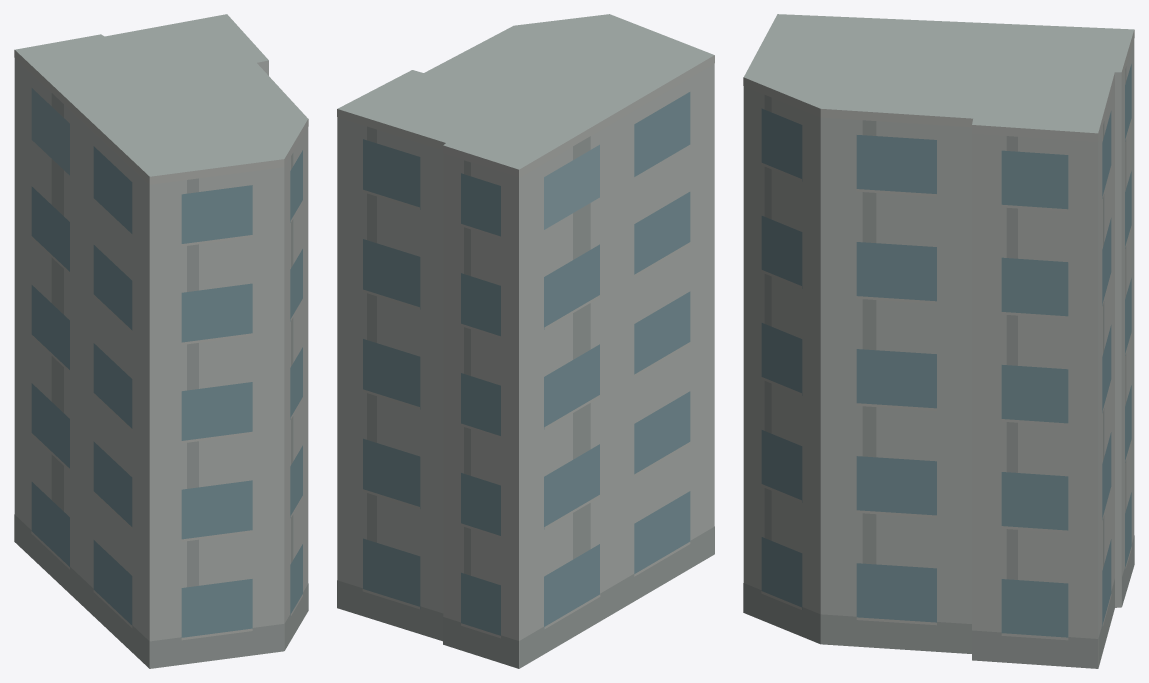
Rendered from survey-upis-32732214.glb.
3 views of the same model, side by side, from view 1: azimuth 30°, elevation 25°; view 2: azimuth 150°, elevation 25°; view 3: azimuth 270°, elevation 25° (orthographic). The views are drawn at different scales.
Parts seen in each view (by area): view 1: survey-upis-32732214.tmp; view 2: survey-upis-32732214.tmp; view 3: survey-upis-32732214.tmp.
Part boxes in pixels (<box>): survey-upis-32732214.tmp: <box>14,14,308,668</box>; survey-upis-32732214.tmp: <box>337,14,714,668</box>; survey-upis-32732214.tmp: <box>743,14,1134,668</box>.
Bounding box in the file's own units: 7.08 × 14.8 × 9.8.
